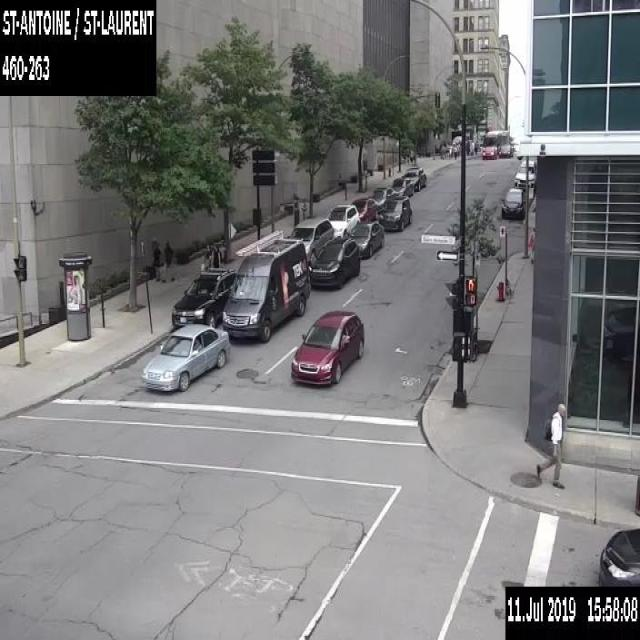bus: (484, 128, 509, 154)
pedestrian: (536, 402, 566, 489), (162, 240, 175, 282), (152, 241, 164, 282), (528, 226, 536, 262), (212, 244, 221, 268), (204, 242, 211, 266), (465, 138, 469, 155), (474, 137, 478, 154), (453, 144, 457, 160), (409, 147, 413, 163)
vehicle: (221, 228, 310, 342), (141, 323, 230, 390), (289, 307, 365, 385), (171, 268, 237, 328), (308, 236, 359, 288), (597, 524, 639, 584), (288, 217, 334, 263), (350, 220, 384, 257), (378, 194, 412, 229), (326, 203, 361, 237), (500, 186, 526, 218), (368, 184, 396, 210), (350, 196, 378, 221), (514, 158, 536, 186), (402, 165, 426, 190), (391, 176, 414, 196), (481, 146, 497, 158), (497, 144, 513, 156)
